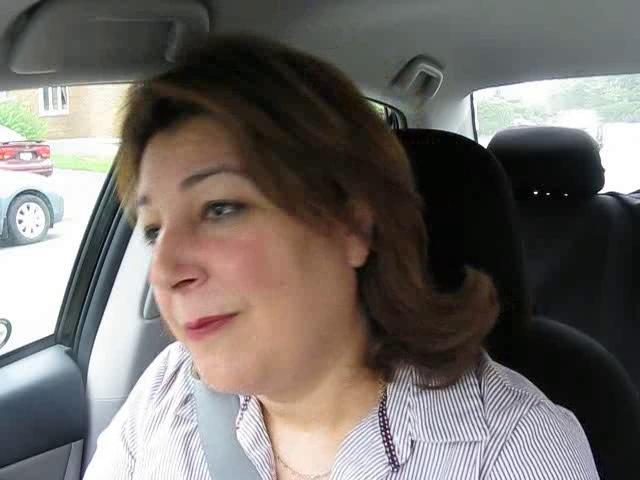close_eyeL: (128, 209, 176, 246)
close_eyeR: (183, 188, 266, 237)
no_yawn: (164, 292, 259, 361)
